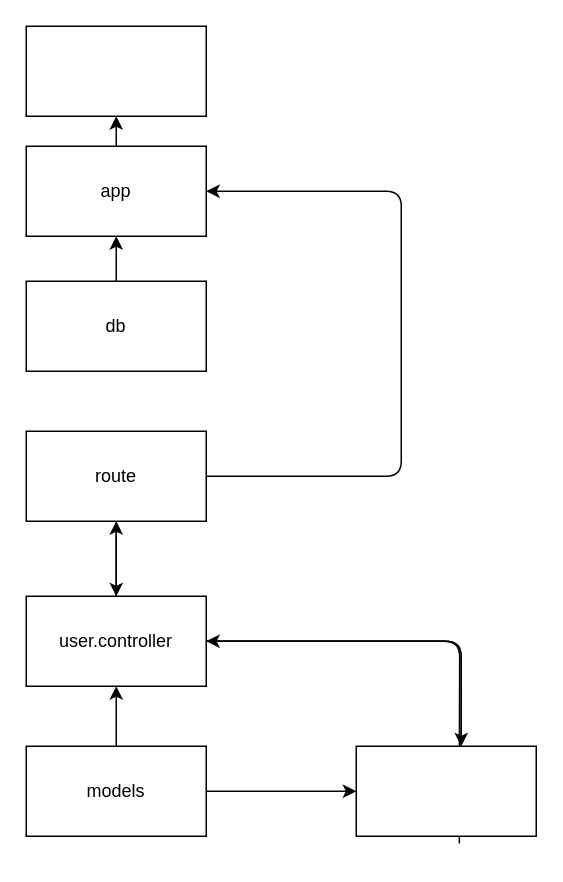
The diagram is 563 pixels wide and 882 high, and some of its shapes have lost their labels. The shapes that lost their labels are listed below. From the top down, each one's centre as x and y in pixels, then its label:
At pixel 115 70: "server".
At pixel 445 790: "user.service".
